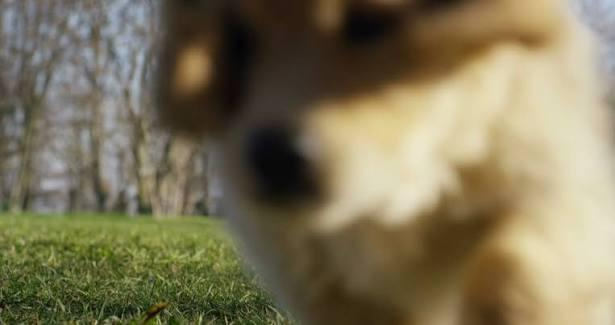puppy-dog: (151, 0, 615, 325)
